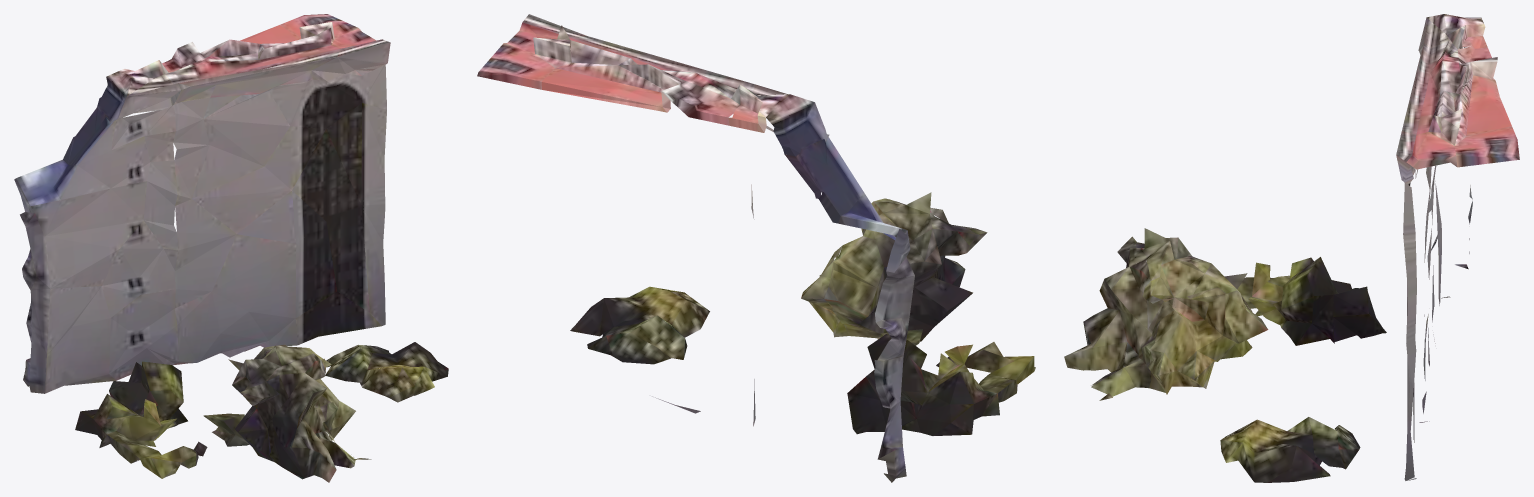
3 renders of one model, left to right at view 1: azimuth 30°, elevation 25°; view 2: azimuth 150°, elevation 25°; view 3: azimuth 270°, elevation 25°, orthographic. The views are drawn at different scales.
Parts seen in each view (by area): view 1: Mesh_0; view 2: Mesh_0; view 3: Mesh_0.
Part boxes in pixels (bbox=[...]): Mesh_0: bbox=[14, 14, 448, 482]; Mesh_0: bbox=[477, 14, 1035, 482]; Mesh_0: bbox=[1064, 14, 1519, 482].
Size of the model in its own units: 25.66 by 21.38 by 25.52.
1 material, 1 textured.
